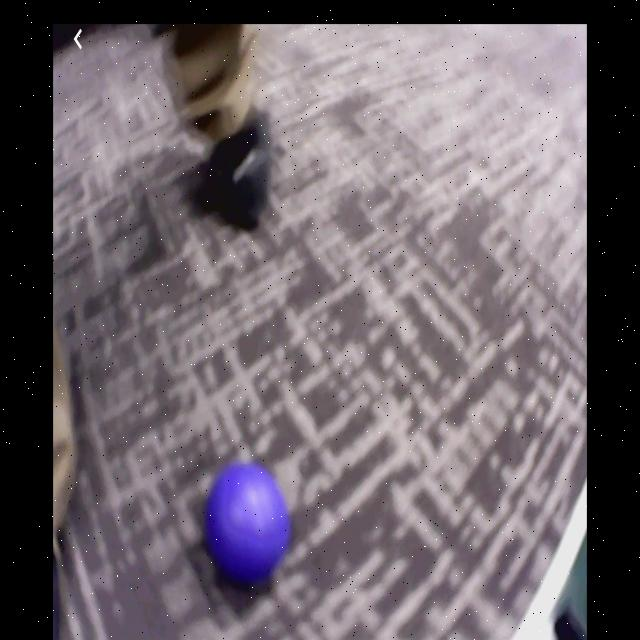ball: (209, 469, 288, 580)
